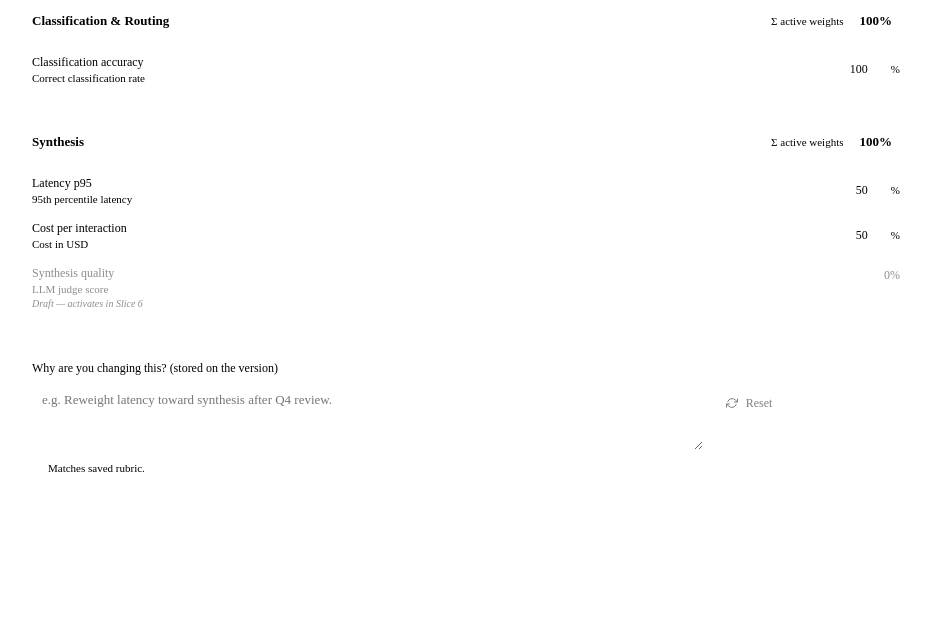
Test: RubricEditor › renders coverage-incomplete marker when coverage_complete is false
The width and height of the screenshot is (933, 625).
Replace the text in the number field with test id "weight-input-tier_3.latency_p95" with "40" at coordinates (857, 190), box [827,176,887,204]
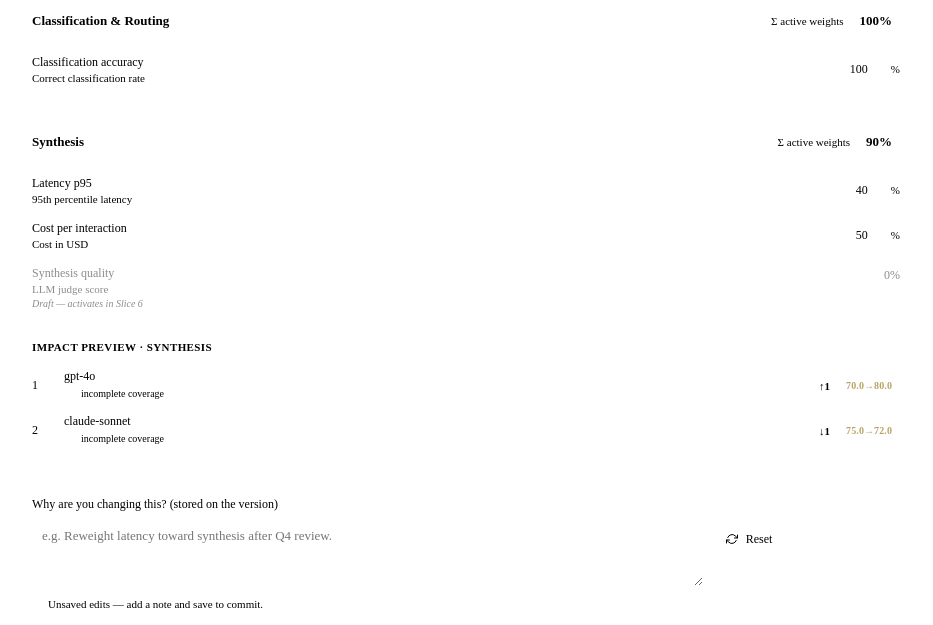
expect the element with test id "impact-preview-tier_3" is shown: met, box [16,329,916,465]
expect the element with test id "coverage-incomplete" below "gpt-4o" is shown: met, box [64,387,169,400]
